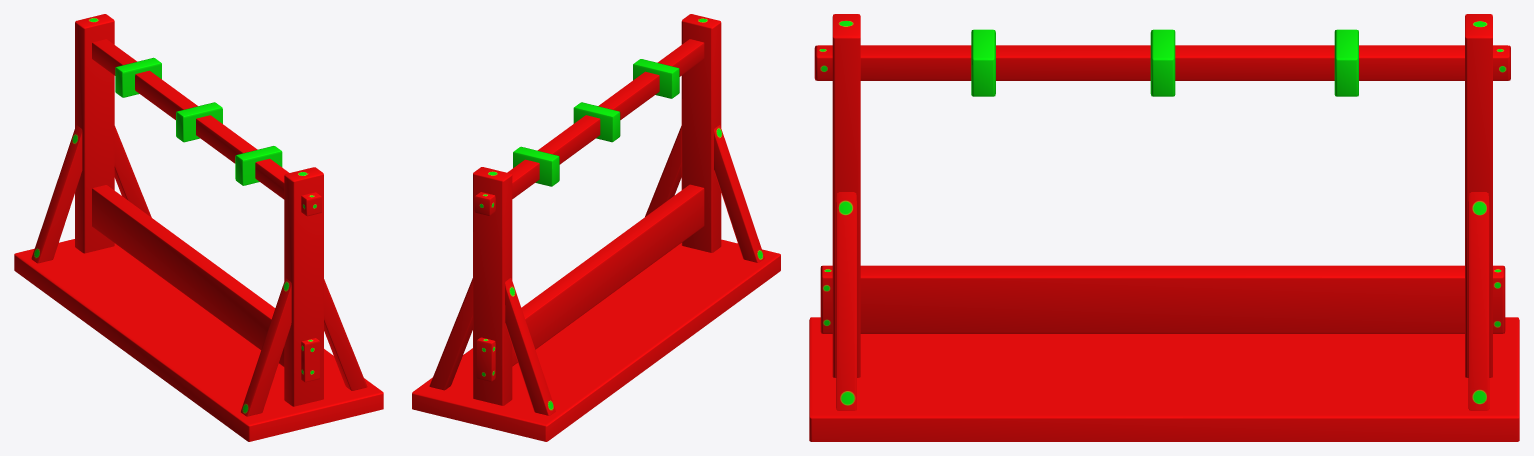
The model's file is SM_Medieval_Weapons_Rack_01.fbx.
The picture shows the model from 3 angles, left to right: view 1: azimuth 30°, elevation 25°; view 2: azimuth 150°, elevation 25°; view 3: azimuth 270°, elevation 25°; orthographic projection. The views are drawn at different scales.
Visible parts, largest first — view 1: SM_Medieval_Weapons_Rack_01; view 2: SM_Medieval_Weapons_Rack_01; view 3: SM_Medieval_Weapons_Rack_01.
Part boxes in pixels (x1,y1,x2,y2): SM_Medieval_Weapons_Rack_01: (14,14,383,441); SM_Medieval_Weapons_Rack_01: (412,14,780,441); SM_Medieval_Weapons_Rack_01: (809,14,1519,441).
Bounding box in the file's own units: 54.53 × 164 × 93.35.
